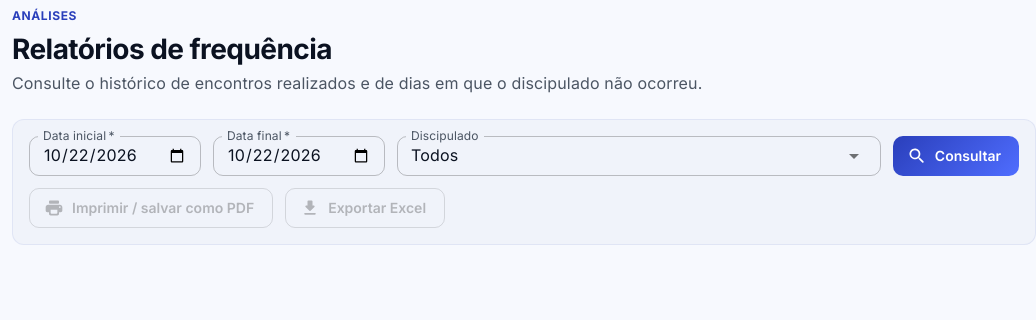
Test: relatório diário de frequência › informa quando não há encontros e mantém a impressão desabilitada
Step 1. Click the button "Consultar" → point(956, 156), box left=893, top=136, right=1019, bottom=176
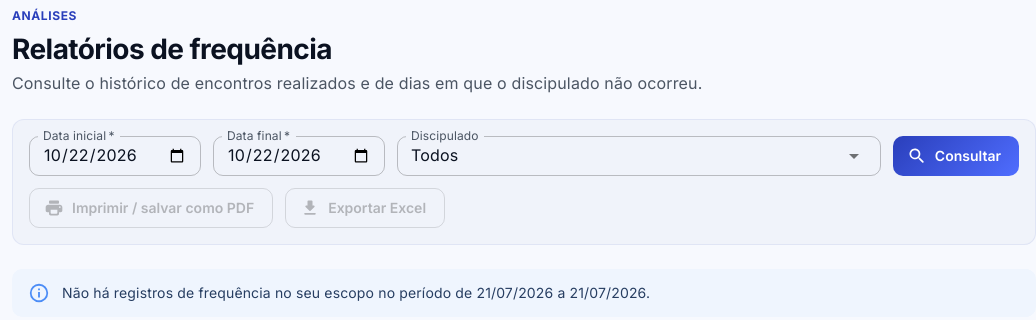
Expected: the button "Imprimir / salvar como PDF" is disabled, left=29, top=188, right=273, bottom=228
Expected: the text "Não há registros de frequência no seu escopo" is shown, left=62, top=284, right=476, bottom=301
